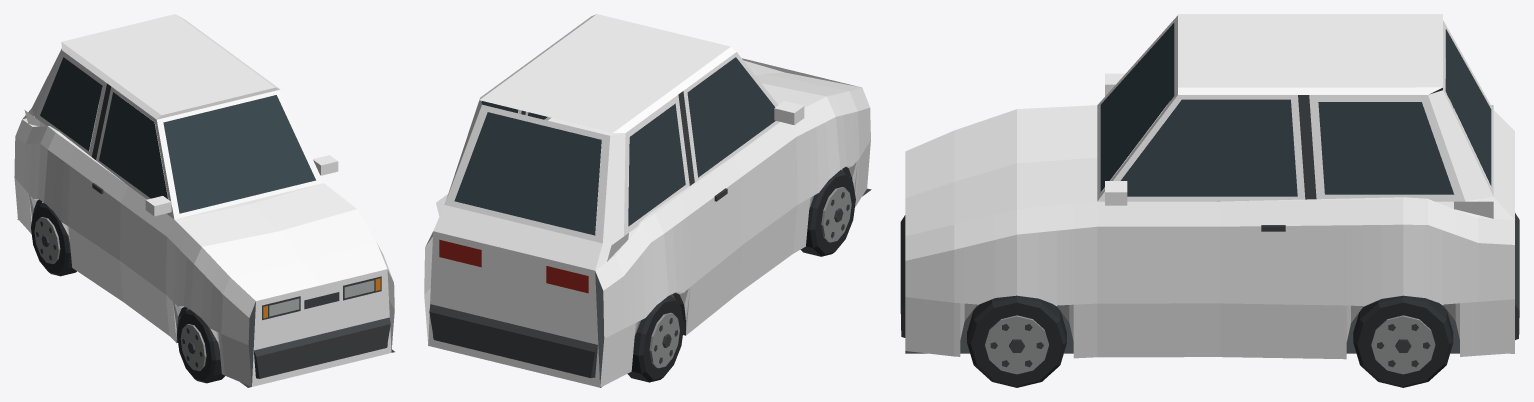
Rendered from hayase_kobo.glb.
3 views of the same model, side by side, from view 1: azimuth 30°, elevation 25°; view 2: azimuth 150°, elevation 25°; view 3: azimuth 270°, elevation 25° (orthographic). The views are drawn at different scales.
Parts seen in each view (by area): view 1: hayase_kobo; view 2: hayase_kobo; view 3: hayase_kobo.
Part boxes in pixels (x1,y1,x2,y2): hayase_kobo: (14, 14, 394, 387); hayase_kobo: (424, 14, 871, 387); hayase_kobo: (900, 14, 1519, 387).
Size of the model in its own units: 1.5 by 1.67 by 3.3.
Materials: 8 (1 with a texture image).
